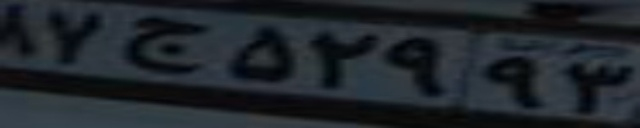2: (311, 32, 380, 86)
3: (565, 58, 632, 112)
5: (227, 25, 299, 81)
7: (48, 11, 107, 68)
8: (2, 4, 34, 55)
9: (387, 34, 453, 96), (485, 52, 548, 107)
jim: (120, 16, 212, 74)
